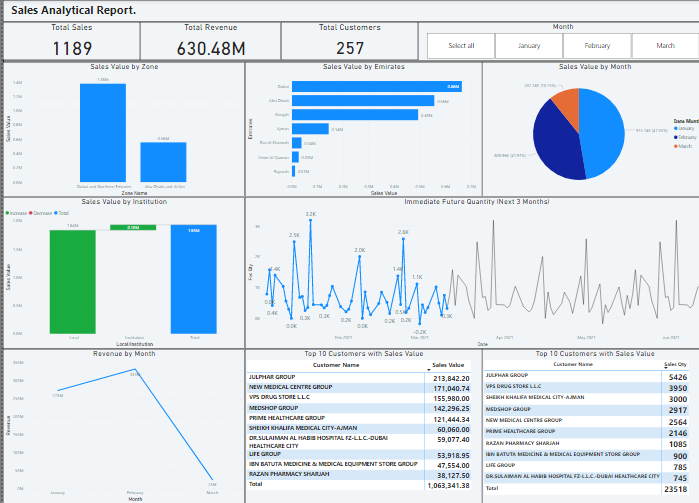

This screenshot's page, from the dashboard's own definition file:
{"tool":"powerbi","page":{"name":"Page 1","canvas":[2000,1450],"ordinal":0},"visuals":[{"type":"clusteredColumnChart","title":"Sales Value by Zone","fields":{"Category":["IDS_Sales_Data.Zone Name"],"Y":["Sum(IDS_Sales_Data.Sales Value)"]},"box":[0,176.3,686.3,382.9],"z":0},{"type":"clusteredBarChart","fields":{"Category":["IDS_Sales_Data.Emirates"],"Y":["Sum(IDS_Sales_Data.Sales Value)"]},"box":[686.3,176.3,673,382.9],"z":1000},{"type":"waterfallChart","title":"Sales Value by Institution","fields":{"Category":["IDS_Sales_Data.Local/Institution"],"Y":["Sum(IDS_Sales_Data.Sales Value)"]},"box":[0,559.2,686.3,430.3],"z":2000},{"type":"pieChart","fields":{"Category":["IDS_Sales_Data.Date.Variation.Date Hierarchy.Month"],"Y":["Sum(IDS_Sales_Data.Sales Value)"]},"box":[1359.2,176.3,640.8,382.9],"z":3000},{"type":"textbox","box":[0,0,2000,60.7],"z":4000},{"type":"lineChart","title":"Immediate Future Quantity (Next 3 Months)","fields":{"Category":["IDS_Sales_Data.Date"],"Y":["Sum(IDS_Sales_Data.Foc Qty)"]},"box":[686.3,559.2,1313.7,430.3],"z":5000},{"type":"pivotTable","title":"Top 10 Customers with Sales Value","fields":{"Rows":["IDS_Sales_Data.Customer Name"],"Values":["Sum(IDS_Sales_Data.Sales Value)"]},"box":[686.3,991.5,673,437.9],"z":6000},{"type":"card","title":"Total Sales","fields":{"Values":["CountNonNull(IDS_Sales_Data.Sales Value)"]},"box":[0,62.6,388.6,108.1],"z":7000},{"type":"card","title":"Total Revenue","fields":{"Values":["Sum(IDS_Sales_Data.Revenue)"]},"box":[388.6,62.6,400,108.1],"z":8000},{"type":"card","title":"Total Customers","fields":{"Values":["Count(IDS_Sales_Data.Customer Name)"]},"box":[788.6,62.6,388.6,108.1],"z":9000},{"type":"slicer","title":"Month","fields":{"Values":["IDS_Sales_Data.Month"]},"box":[1177.3,62.6,822.7,110],"z":10000},{"type":"pivotTable","title":"Top 10 Customers with Sales Value","fields":{"Rows":["IDS_Sales_Data.Customer Name"],"Values":["Sum(IDS_Sales_Data.Sales Qty)"]},"box":[1359.2,989.6,640.8,439.8],"z":12000},{"type":"lineChart","fields":{"Category":["IDS_Sales_Data.Month"],"Y":["Sum(IDS_Sales_Data.Revenue)"]},"box":[0,991.5,686.3,437.9],"z":13000}]}

Visuals, with their boxes in screenshot pixels (x1, y1, x2, y2), scaled from the page's 2000x1450 canvas onto the 699x503 screenshot:
"Sales Value by Zone" clusteredColumnChart: 0, 61, 240, 194
clusteredBarChart - IDS_Sales_Data.Emirates x Sum(IDS_Sales_Data.Sales Value): 240, 61, 475, 194
"Sales Value by Institution" waterfallChart: 0, 194, 240, 343
pieChart - IDS_Sales_Data.Date.Variation.Date Hierarchy.Month x Sum(IDS_Sales_Data.Sales Value): 475, 61, 698, 194
textbox: 0, 0, 698, 21
"Immediate Future Quantity (Next 3 Months)" lineChart: 240, 194, 698, 343
"Top 10 Customers with Sales Value" pivotTable: 240, 344, 475, 496
"Total Sales" card: 0, 22, 136, 59
"Total Revenue" card: 136, 22, 276, 59
"Total Customers" card: 276, 22, 411, 59
"Month" slicer: 411, 22, 698, 60
"Top 10 Customers with Sales Value" pivotTable: 475, 343, 698, 496
lineChart - IDS_Sales_Data.Month x Sum(IDS_Sales_Data.Revenue): 0, 344, 240, 496
